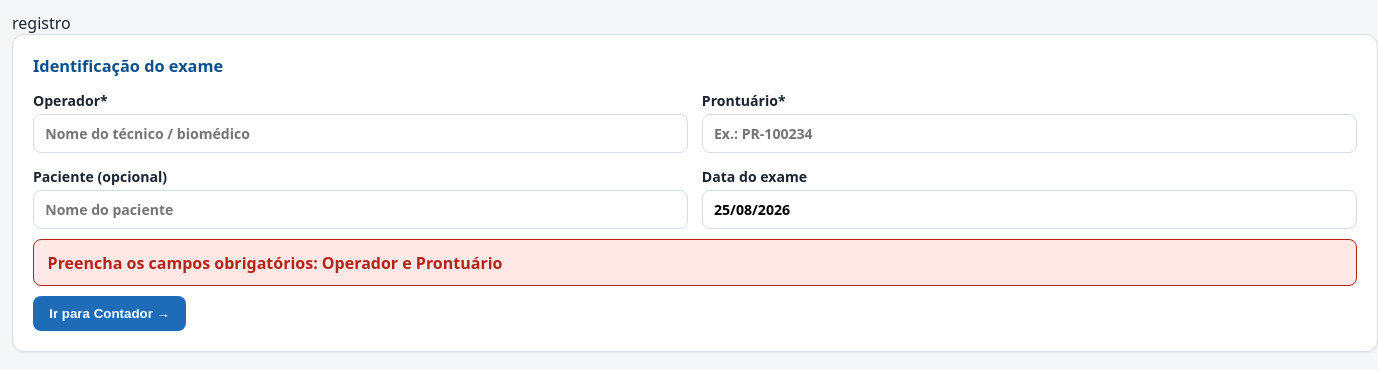
it: Registro › avanca quando operador e prontuario estao preenchidos
Type "Ana Ribeiro" into the field with placeholder "Nome do técnico / biomédico". click: (361, 134)
box: [33,114,688,153]
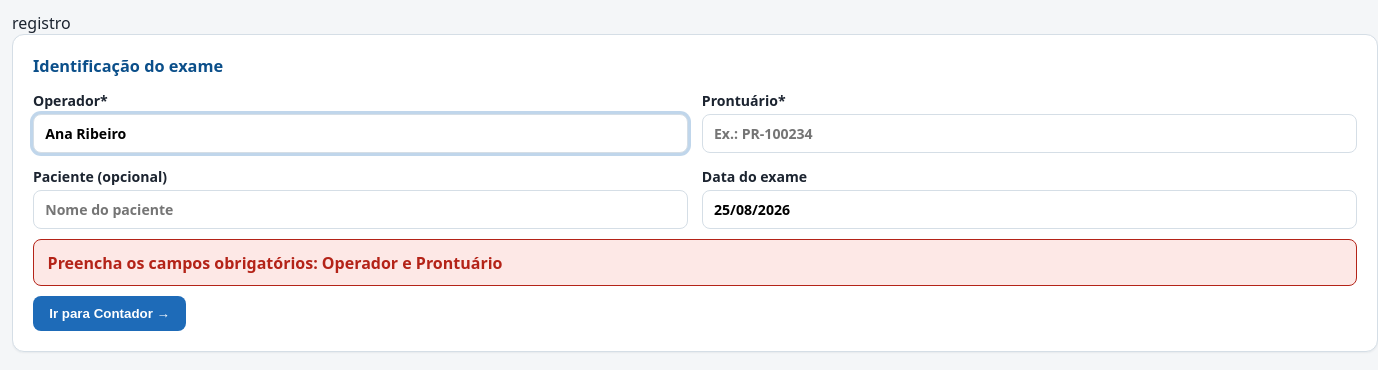
Type "PR-999" into the field with placeholder "Ex.: PR-100234". click: (1029, 134)
box: [702,114,1357,153]
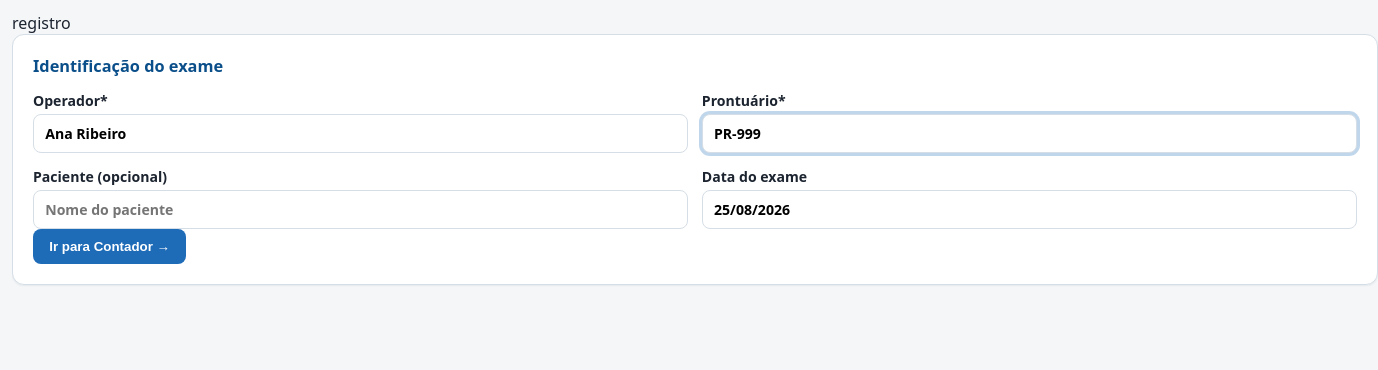
Check: the text "Preencha os campos obrigatórios" is gone
Click the button "Ir para Contador →". click: (110, 246)
box: [33,229,186,264]
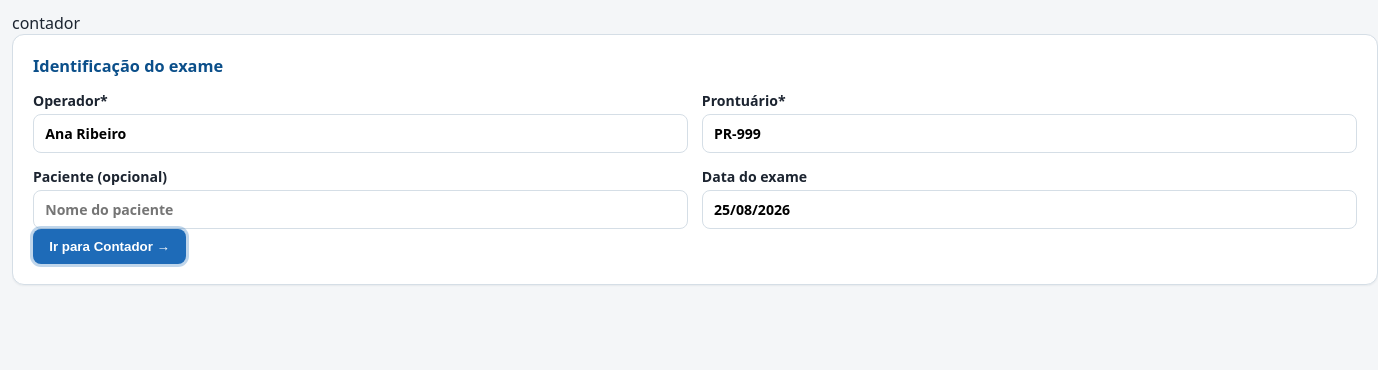
Check: the text with test id "aba" reads "contador", box [12,12,80,34]
